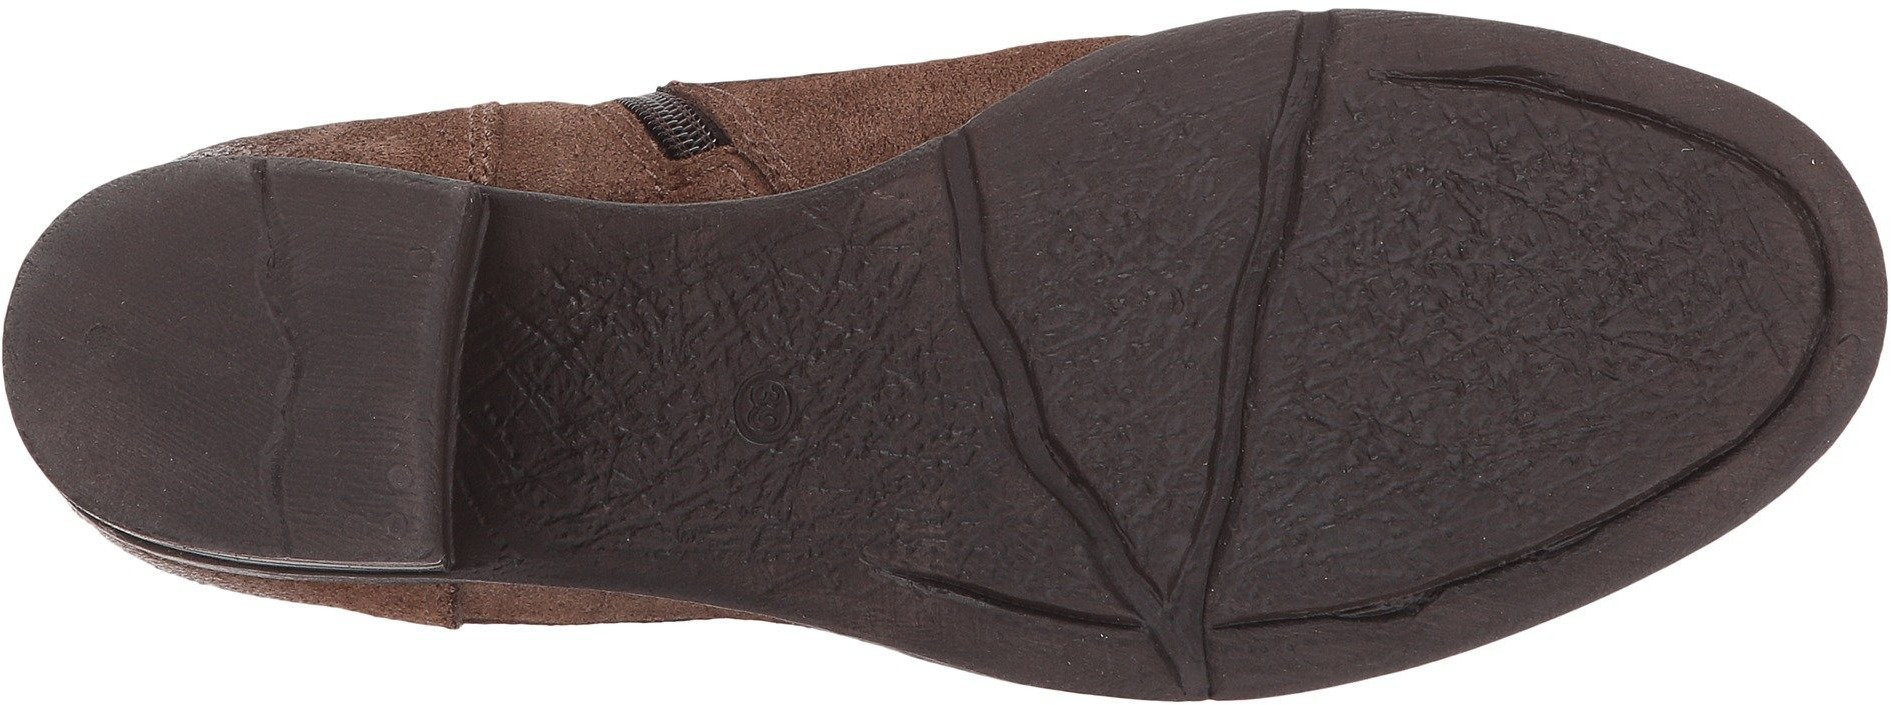exclude: (425, 119, 927, 660)
other: (1356, 139, 1646, 478), (502, 233, 816, 484), (1008, 108, 1245, 340), (37, 241, 269, 472)
